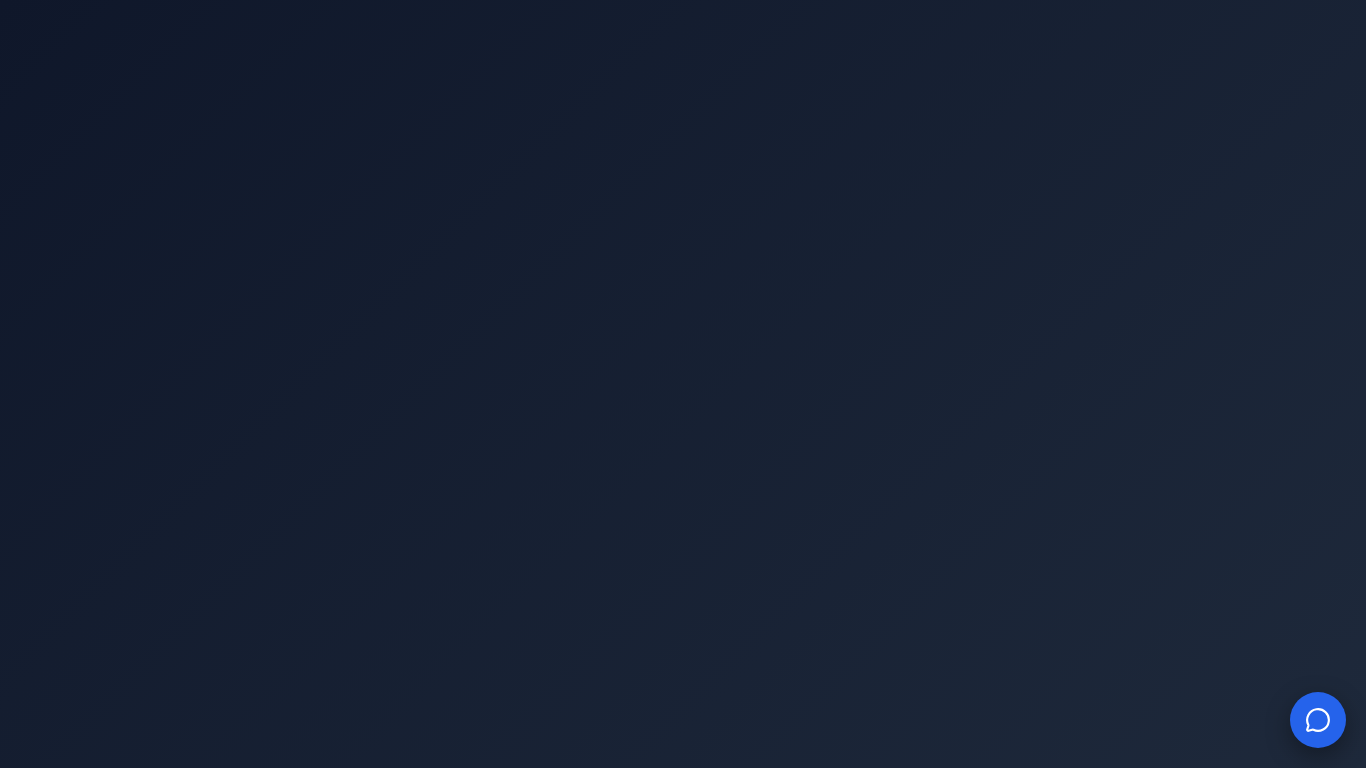
ChatWidget › envía la pregunta y muestra la respuesta con los datos usados
This screenshot has width=1366, height=768.
Click the button named "Abrir el asistente del clima": (1318, 720) [1290,692,1346,748]
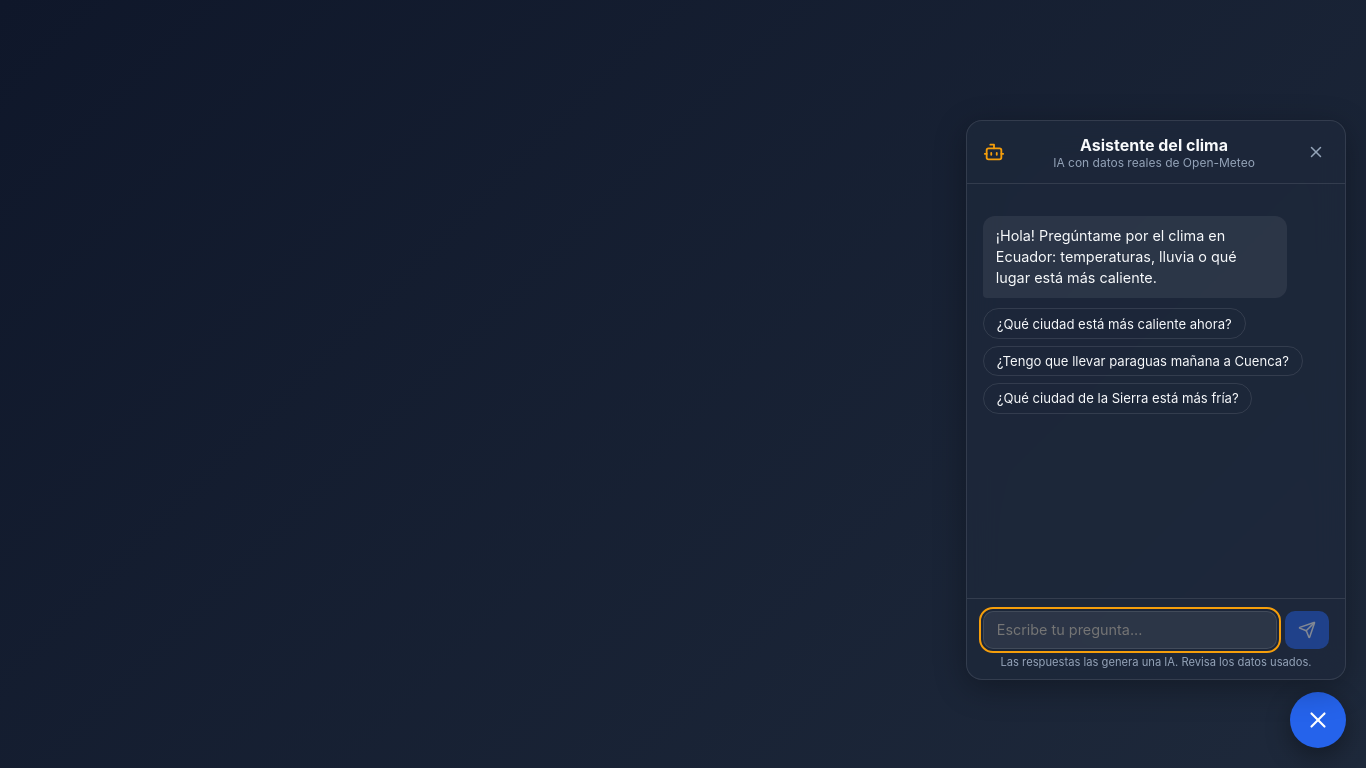
In the field labelled "Escribe tu pregunta": (1130, 630) [983,611,1277,649], type "¿Llevo paraguas mañana a Cuenca?"
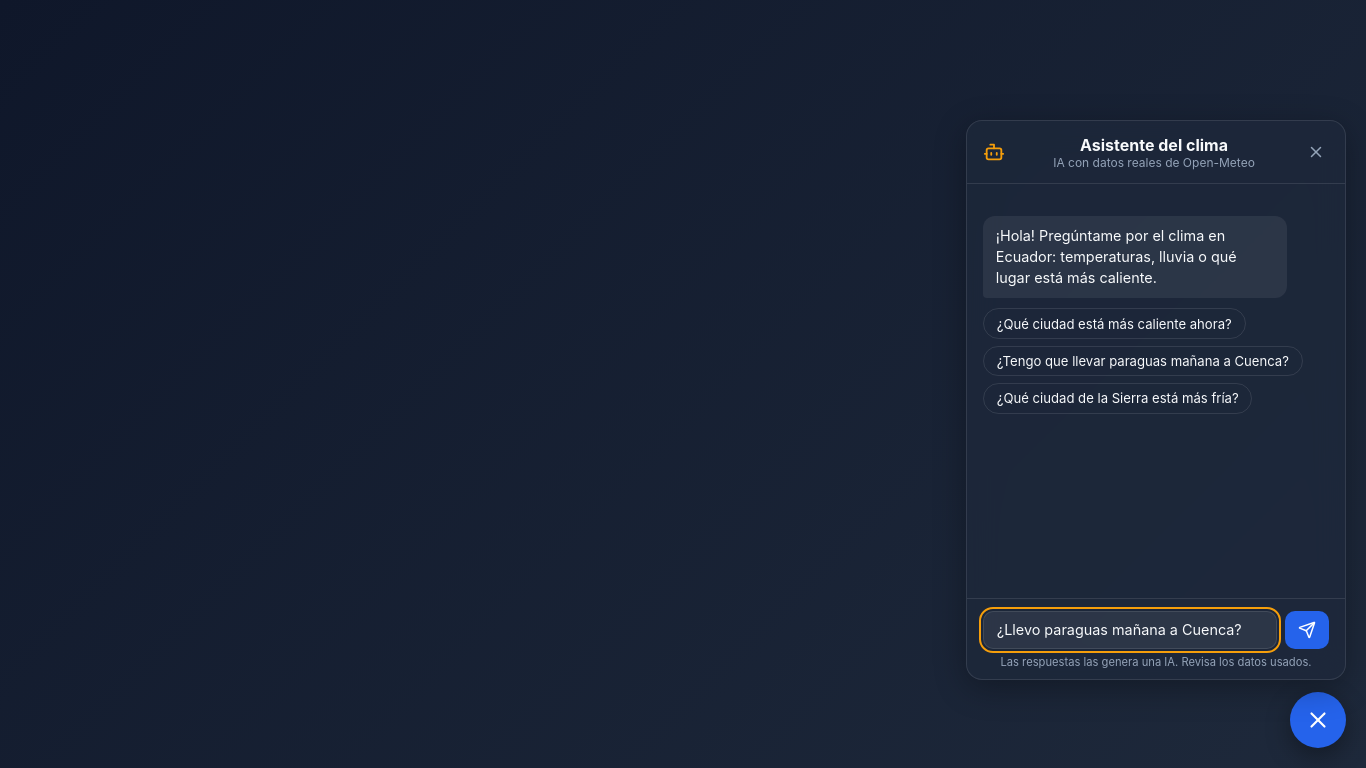
Click the button named "Enviar pregunta": (1307, 630) [1285,611,1329,649]
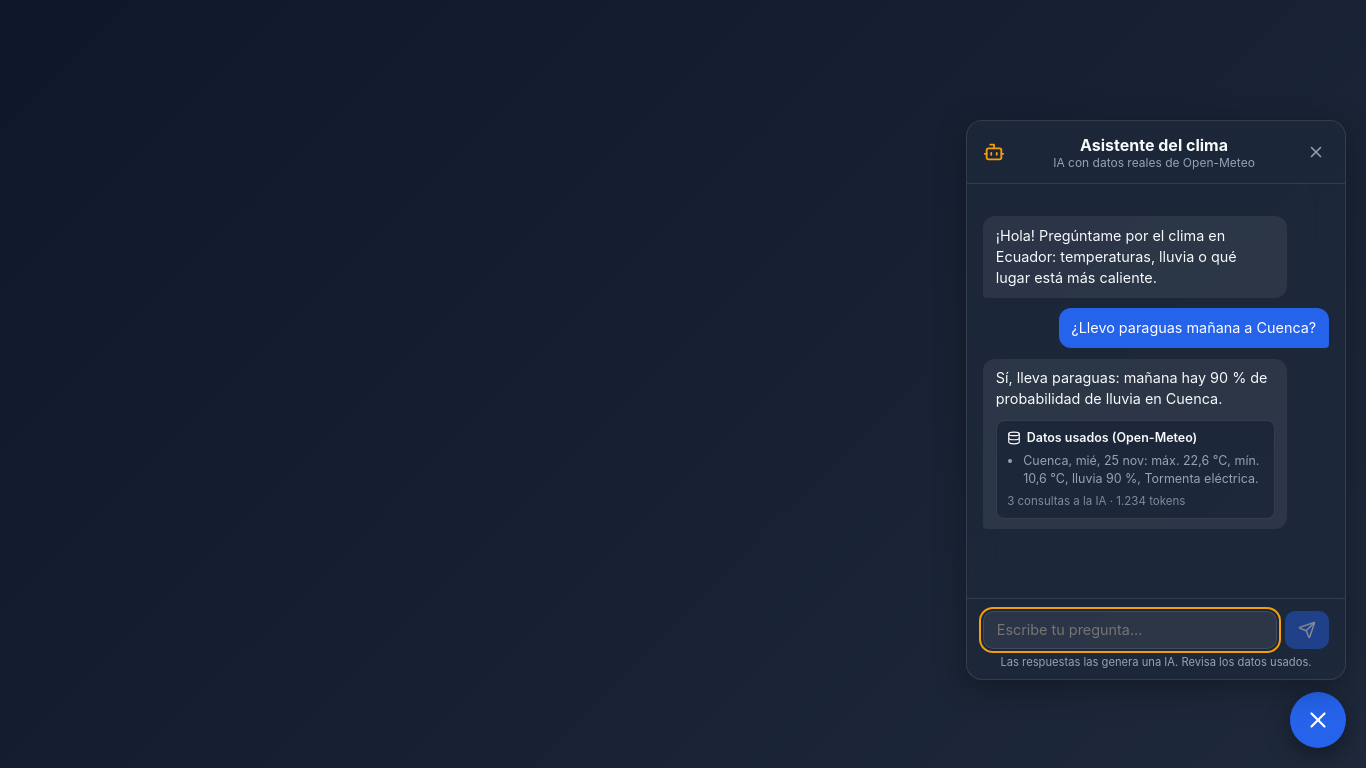
Result: the text "Sí, lleva paraguas: mañana hay 90 % de probabilidad de lluvia en Cuenca." is shown at [996,368,1275,410]
Result: the list item is shown at [1023,453,1259,486]
Result: the text "3 consultas a la IA · 1.234 tokens" is shown at [1007,494,1185,508]
